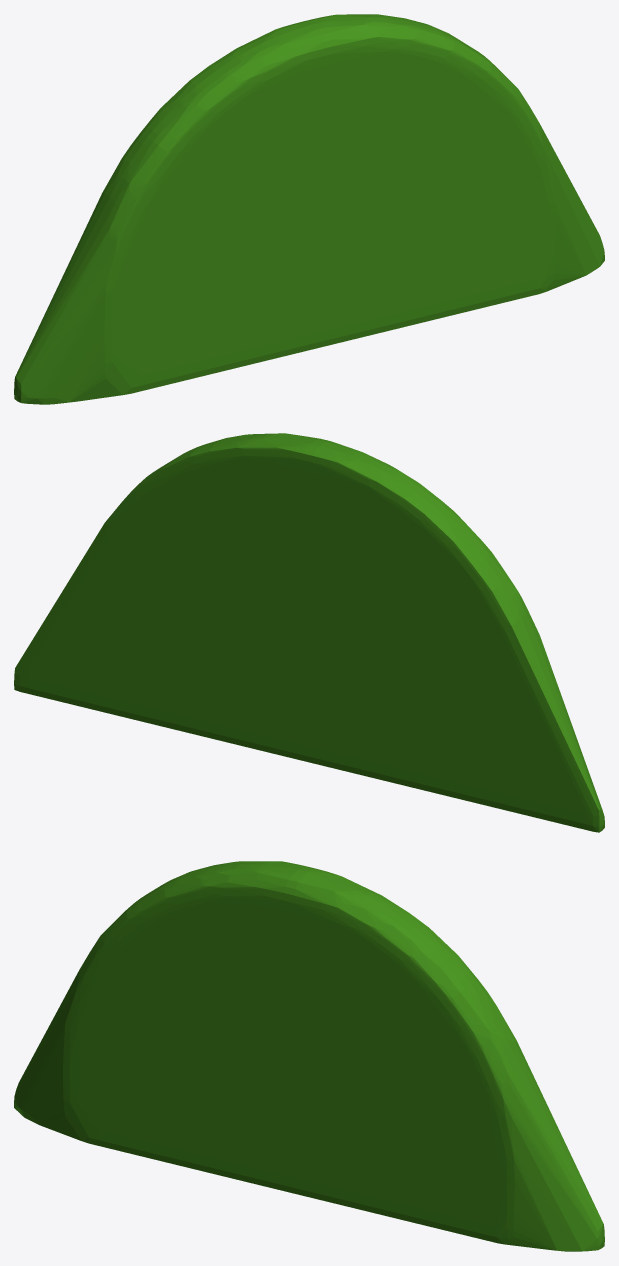
Rendered from pelvis_part_30.obj.
3 views of the same model, one above another, from view 1: azimuth 30°, elevation 25°; view 2: azimuth 150°, elevation 25°; view 3: azimuth 330°, elevation 25° (orthographic).
Bounding box in the file's own units: 0.1122 × 0.0575 × 0.00816.
